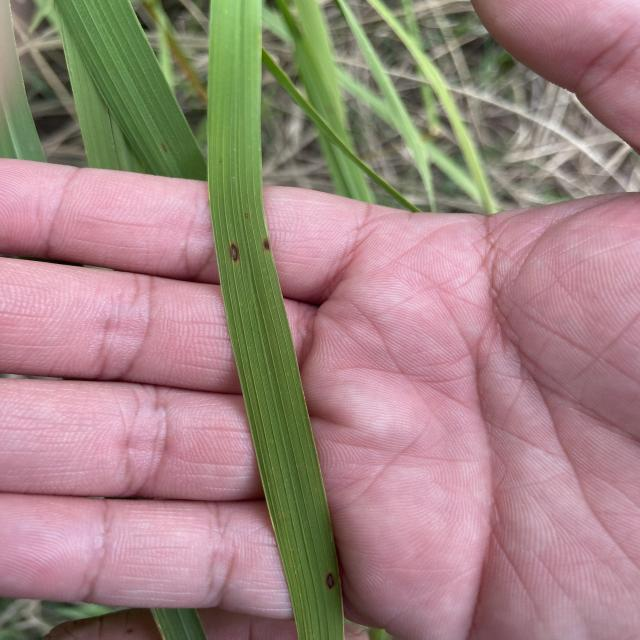Dao on: (230, 243, 240, 263), (325, 573, 335, 589), (261, 239, 271, 253), (244, 213, 249, 218)
